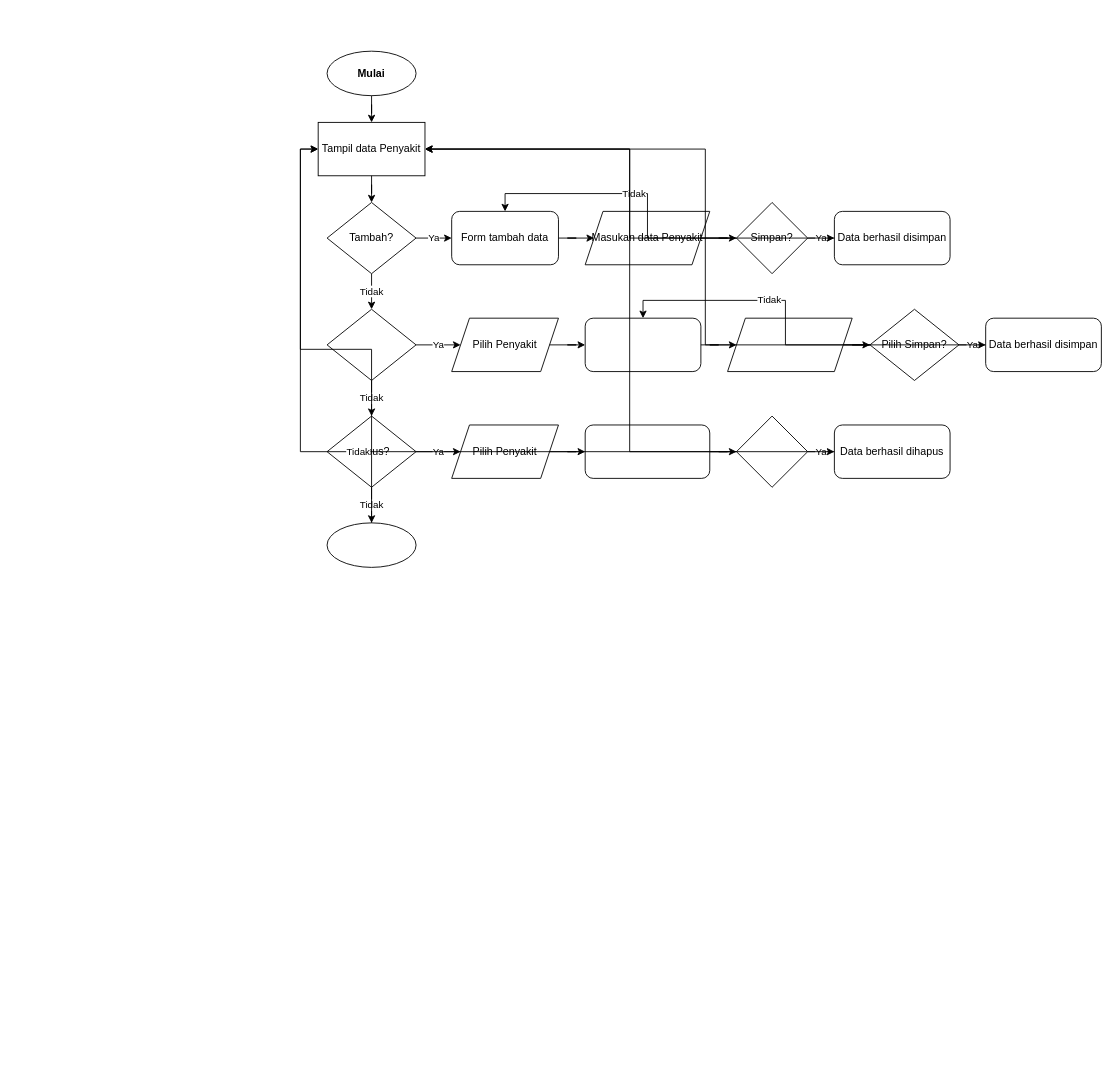
This 1117x1071 diagram has some shape labels left out. The shapes that lost their labels are listed below. From the top down, each one's centre as x and y in pixels, then its label:
the point at 371,344: Edit?
the point at 642,344: Form mengubah data
the point at 789,344: Mengubah data Penyakit
the point at 647,451: Tampil pesan konfirmasi
the point at 772,451: Pilih Ok?
the point at 371,544: Beranda
